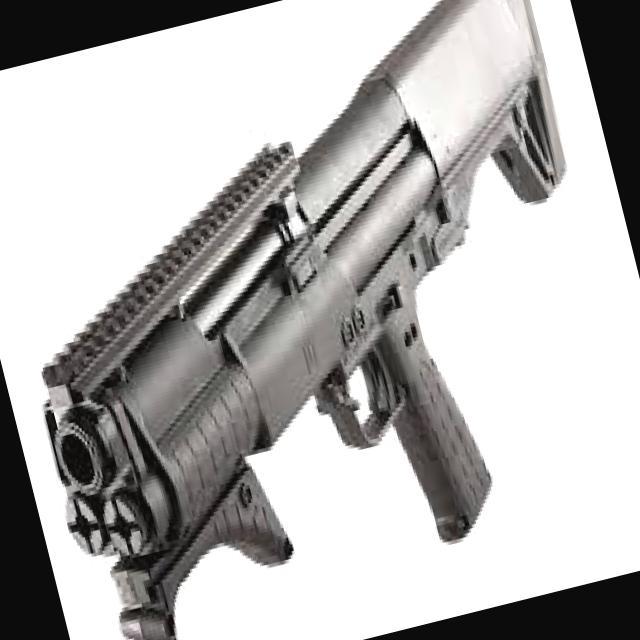long weapon: (3, 0, 609, 640)
